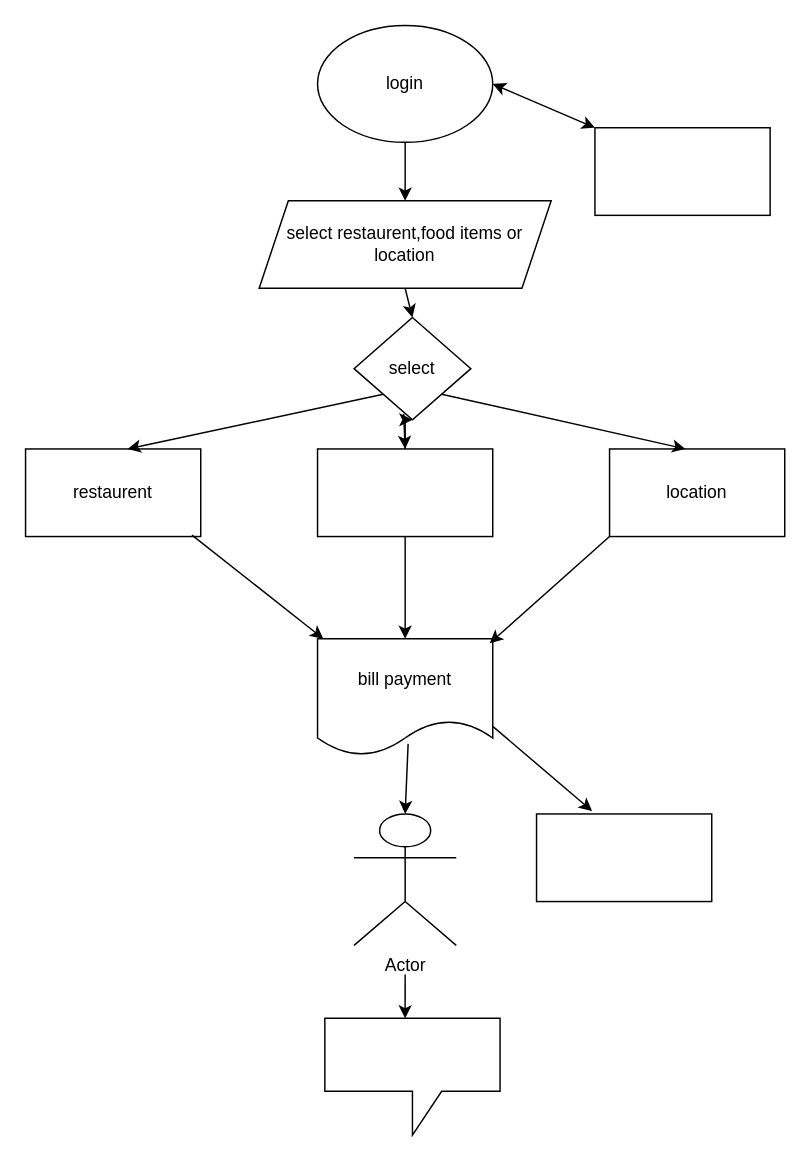
This 810x1161 diagram has some shape labels left out. The shapes that lost their labels are listed below. From the top down, each one's box as (x1, y1, x2, y2) in pixels, then its label:
(593, 126, 770, 215): register
(316, 447, 493, 537): food
(535, 812, 712, 902): address
(323, 1017, 500, 1135): feedback/rating
